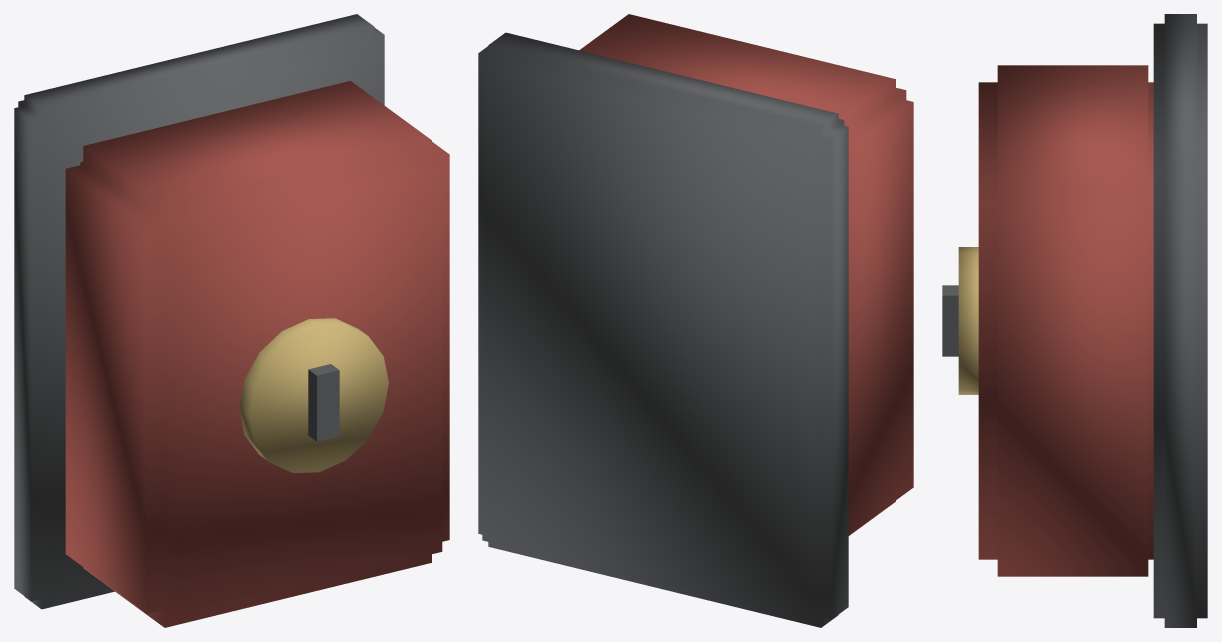
File: watchmans_clock.glb
3 renders of one model, left to right at view 1: azimuth 30°, elevation 25°; view 2: azimuth 150°, elevation 25°; view 3: azimuth 270°, elevation 25°, orthographic. The views are drawn at different scales.
Visible parts, largest first — view 1: ClockBox, MountPlate, KeyPlate, KeySlot; view 2: MountPlate, ClockBox; view 3: ClockBox, MountPlate, KeyPlate, KeySlot.
Part boxes in pixels (left/top/right/bottom): ClockBox: left=65, top=81, right=449, bottom=627; MountPlate: left=14, top=14, right=384, bottom=609; KeyPlate: left=239, top=318, right=388, bottom=473; KeySlot: left=308, top=364, right=339, bottom=441; MountPlate: left=478, top=32, right=848, bottom=627; ClockBox: left=579, top=14, right=913, bottom=535; ClockBox: left=978, top=65, right=1153, bottom=576; MountPlate: left=1153, top=14, right=1207, bottom=627; KeyPlate: left=958, top=247, right=978, bottom=394; KeySlot: left=942, top=285, right=958, bottom=356.
Bounding box in the file's own units: 0.28 × 0.38 × 0.197.
